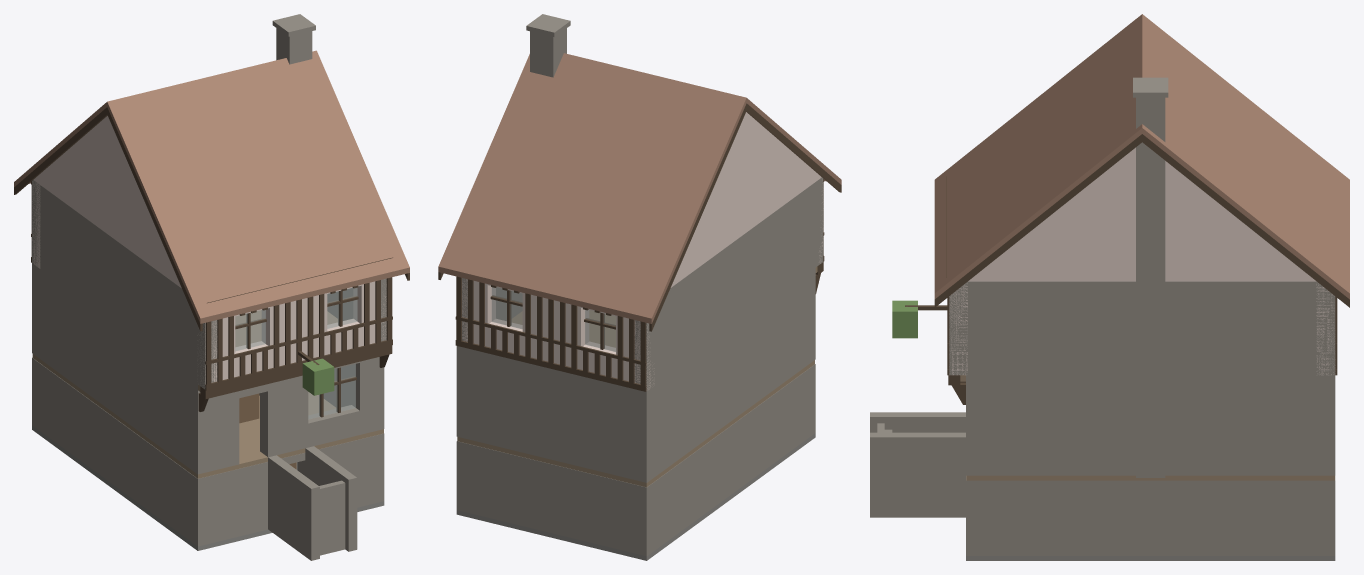
Rendered from alehouse-b.glb.
The picture shows the model from 3 angles, left to right: view 1: azimuth 30°, elevation 25°; view 2: azimuth 150°, elevation 25°; view 3: azimuth 270°, elevation 25°; orthographic projection. The views are drawn at different scales.
Parts seen in each view (by area): view 1: stone, roof, render, timber, floor, glass, flags, green, alehouse-b-door-01 leaf; view 2: stone, roof, render, timber, floor, flags, glass; view 3: stone, roof, render, timber, floor, flags, green.
Boxes of the visible parts, x1,y1,x2,y2 form: stone: [32, 14, 386, 560]; roof: [14, 50, 409, 323]; render: [32, 116, 386, 388]; timber: [14, 107, 409, 417]; floor: [32, 310, 383, 478]; glass: [235, 288, 357, 419]; flags: [32, 425, 384, 550]; green: [302, 358, 334, 395]; alehouse-b-door-01 leaf: [239, 393, 259, 423]; stone: [456, 14, 823, 556]; roof: [438, 53, 841, 323]; render: [462, 112, 823, 390]; timber: [438, 103, 841, 391]; floor: [457, 266, 817, 487]; flags: [456, 433, 815, 560]; glass: [492, 287, 615, 351]; stone: [870, 77, 1335, 555]; roof: [934, 14, 1349, 299]; render: [949, 147, 1335, 375]; timber: [905, 134, 1349, 404]; floor: [960, 375, 1334, 480]; flags: [966, 556, 1335, 560]; green: [892, 300, 917, 338].
Size of the model in its own units: 7.3 by 14.1 by 13.
